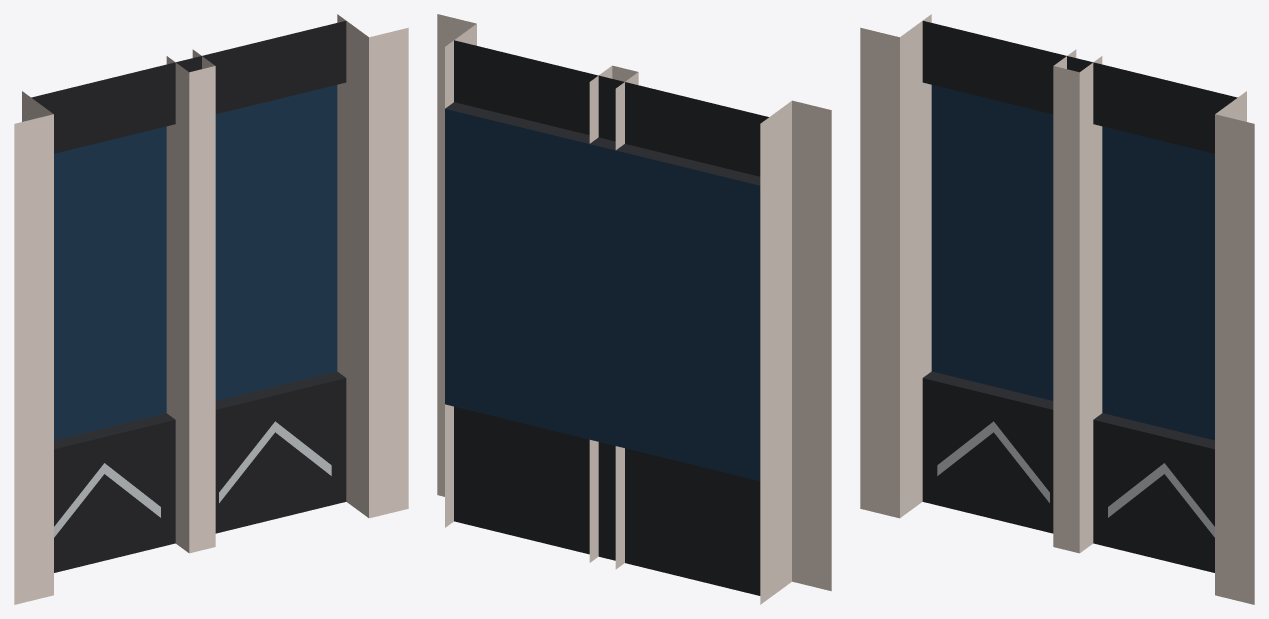
The model's file is mid-w1.fbx.
The picture shows the model from 3 angles, left to right: view 1: azimuth 30°, elevation 25°; view 2: azimuth 150°, elevation 25°; view 3: azimuth 330°, elevation 25°; orthographic projection.
Parts seen in each view (by area): view 1: a2011/600/mid-w1; view 2: a2011/600/mid-w1; view 3: a2011/600/mid-w1.
Boxes of the visible parts, x1,y1,x2,y2 form: a2011/600/mid-w1: (14, 14, 408, 604); a2011/600/mid-w1: (437, 14, 831, 604); a2011/600/mid-w1: (860, 14, 1254, 604).
Size of the model in its own units: 3 by 3.5 by 0.42.
